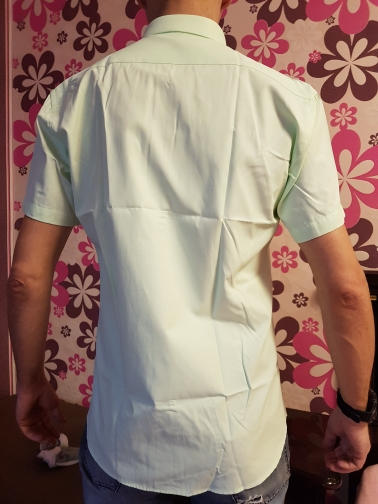shirts: (29, 11, 342, 473)
